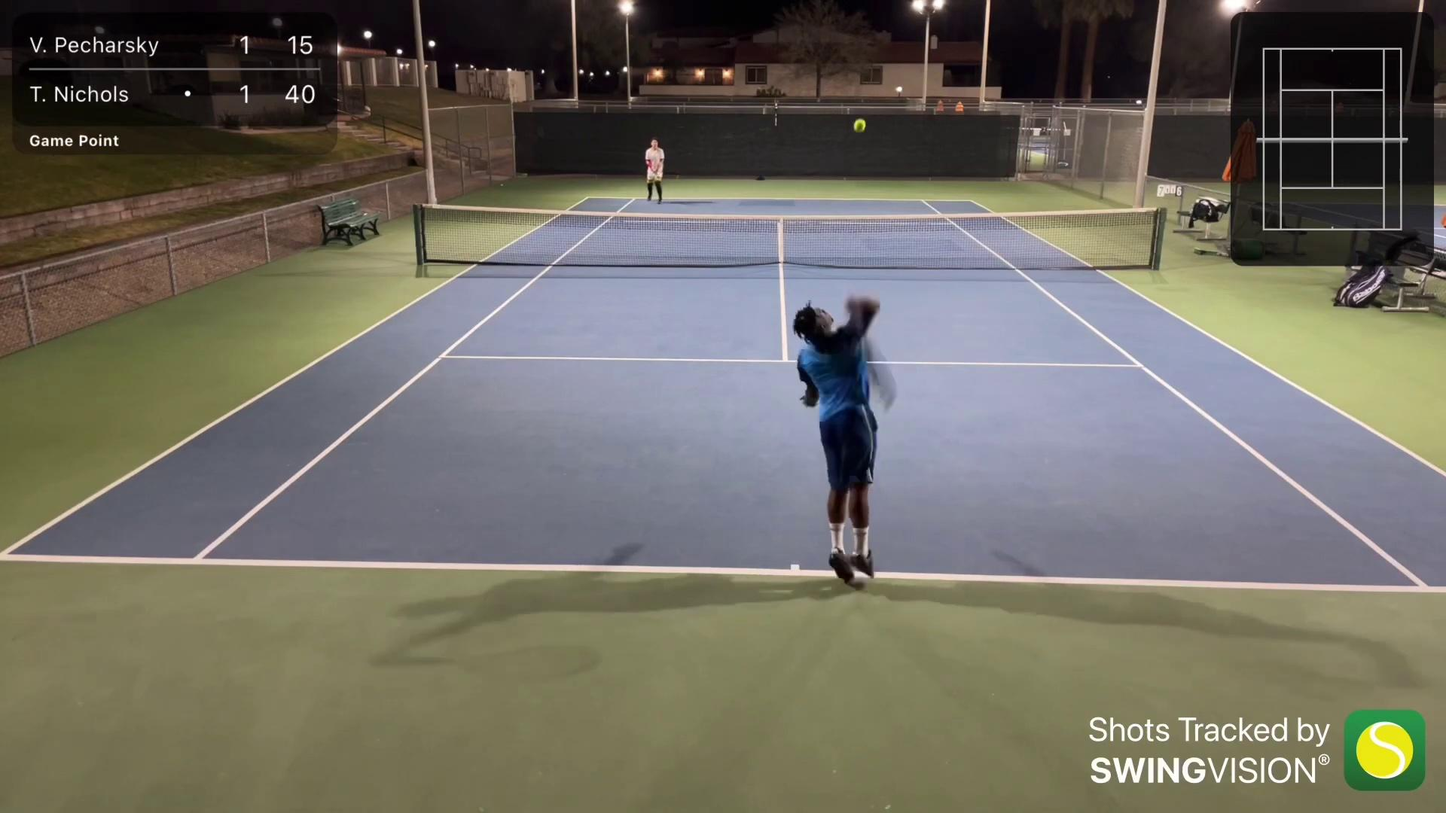ball: (851, 118, 867, 136)
